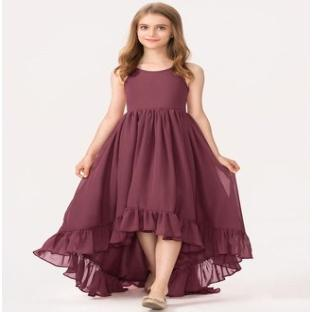Human: (34, 3, 252, 308)
